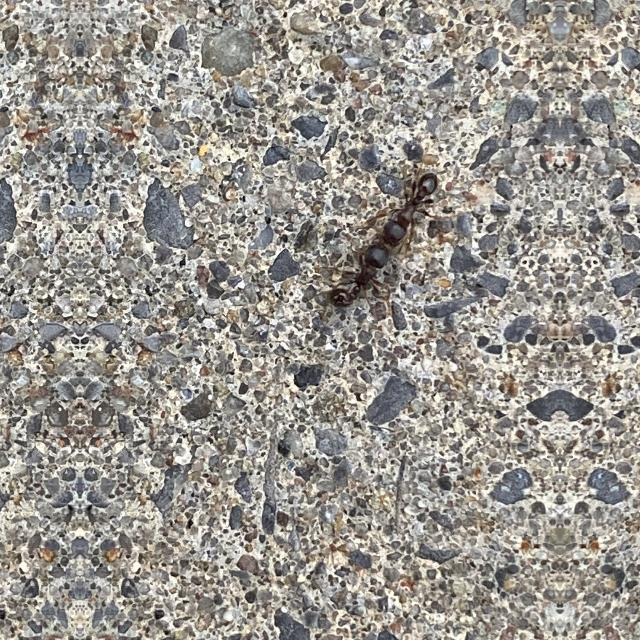Tetramorium: (376, 165, 439, 253), (331, 238, 397, 316)
